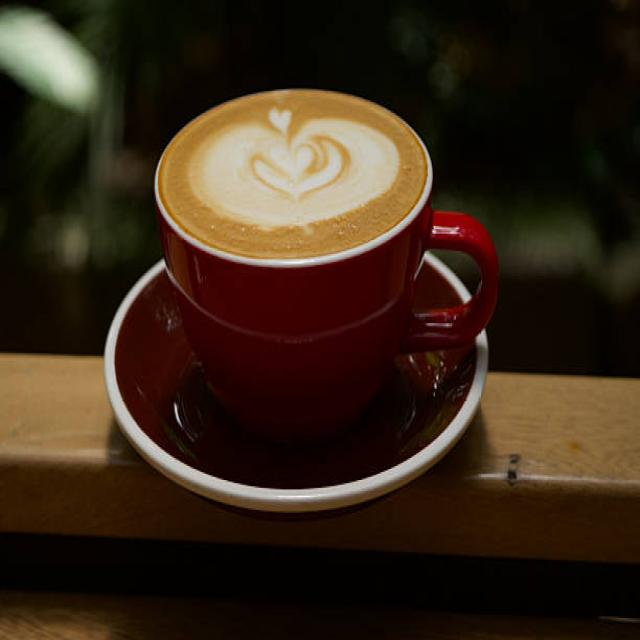Red_cup: (155, 134, 497, 442)
